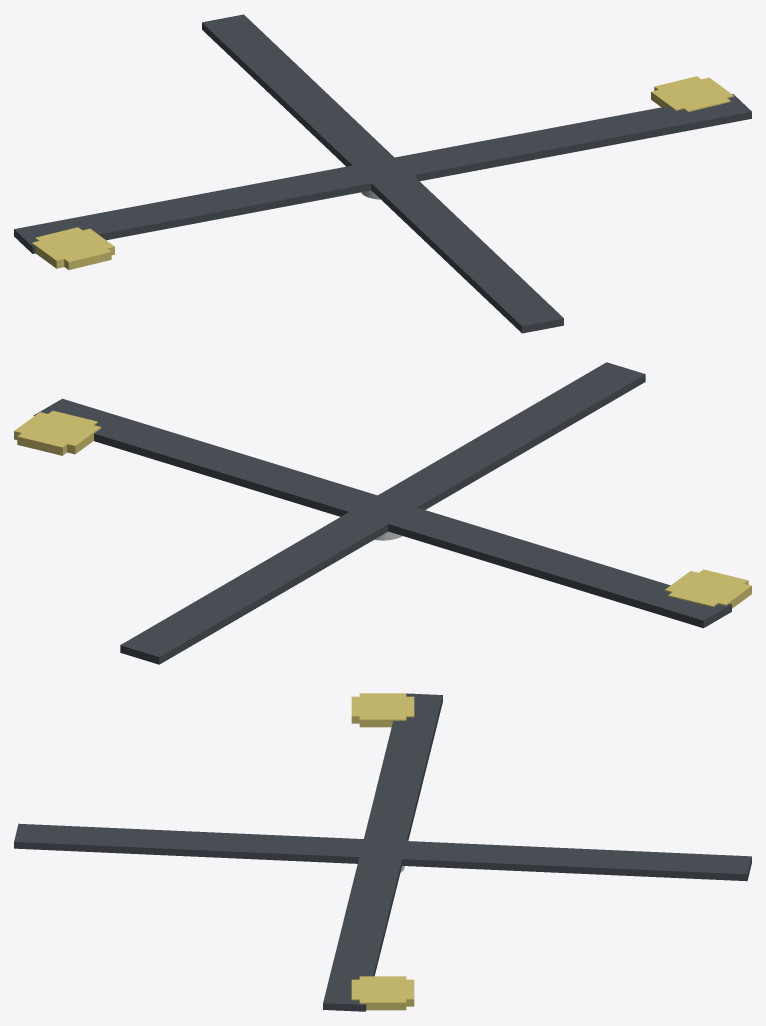
The model's file is prop_1045_ccw.glb.
The picture shows the model from 3 angles, top to bottom: view 1: azimuth 30°, elevation 25°; view 2: azimuth 150°, elevation 25°; view 3: azimuth 270°, elevation 25°; orthographic projection. The views are drawn at different scales.
Visible parts, largest first — view 1: blade0, blade1, tip0_-1, tip0_1, tip1_-1, tip1_1; view 2: blade1, blade0, tip0_1, tip0_-1, tip1_1, tip1_-1; view 3: blade1, blade0, tip0_-1, tip1_1, tip0_1, tip1_-1.
Part boxes in pixels (x1,y1,x2,y2): blade0: [14, 94, 751, 253]; blade1: [202, 14, 563, 333]; tip0_-1: [32, 228, 114, 268]; tip0_1: [651, 77, 733, 110]; tip1_-1: [35, 227, 111, 269]; tip1_1: [654, 76, 730, 112]; blade1: [120, 362, 645, 664]; blade0: [34, 398, 731, 628]; tip0_1: [14, 412, 101, 454]; tip0_-1: [664, 571, 751, 608]; tip1_1: [17, 410, 97, 455]; tip1_-1: [668, 569, 748, 607]; blade1: [14, 823, 751, 881]; blade0: [323, 693, 442, 1011]; tip0_-1: [359, 693, 406, 727]; tip1_1: [351, 979, 414, 1006]; tip0_1: [359, 976, 406, 1010]; tip1_-1: [351, 696, 414, 723].
Bounding box in the file's own units: 4.45 × 0.13 × 4.45.
